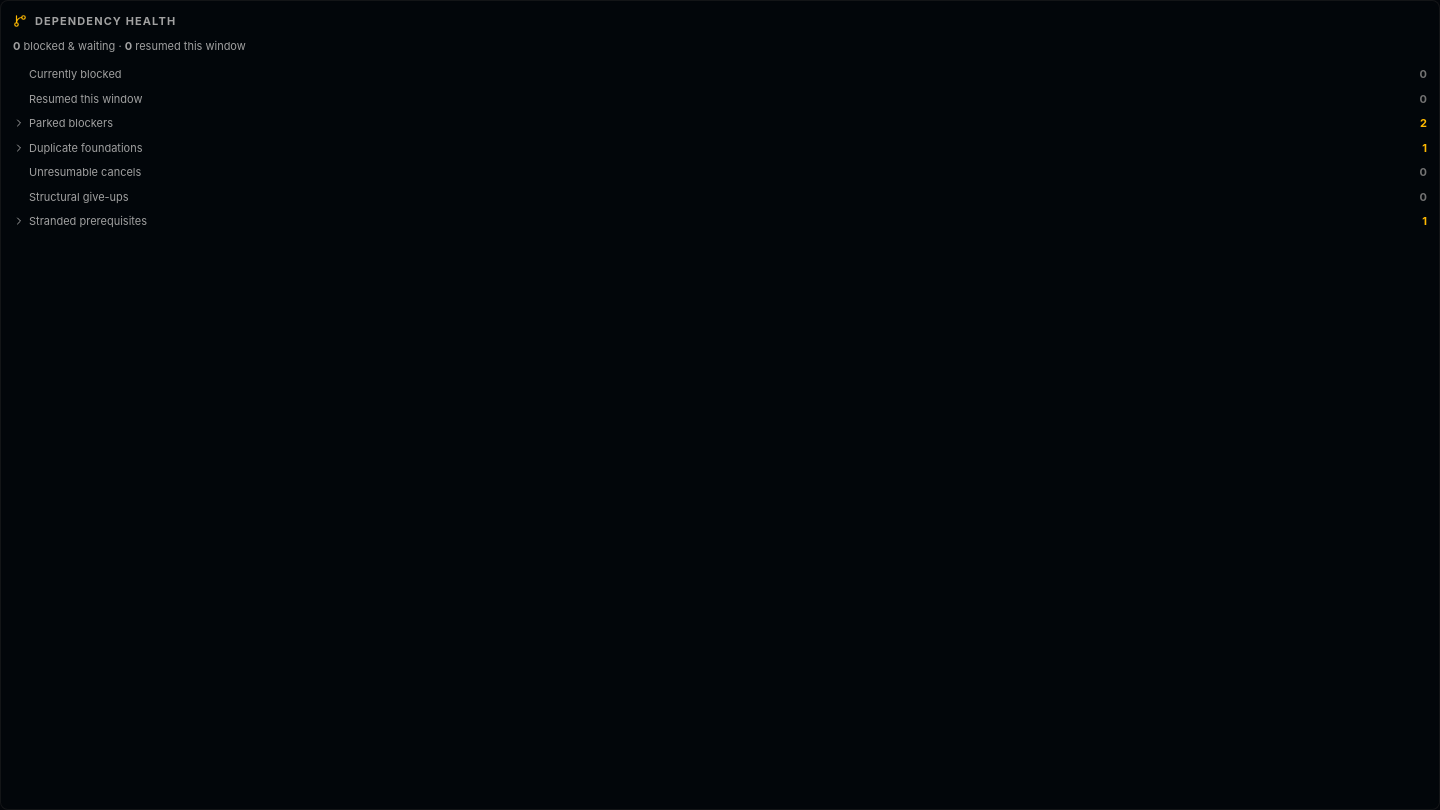
Test: DependencyHealthCard › demands fall back to ref then kind when label is absent
Click the text "Stranded prerequisites": (80, 221) [13,213,147,230]
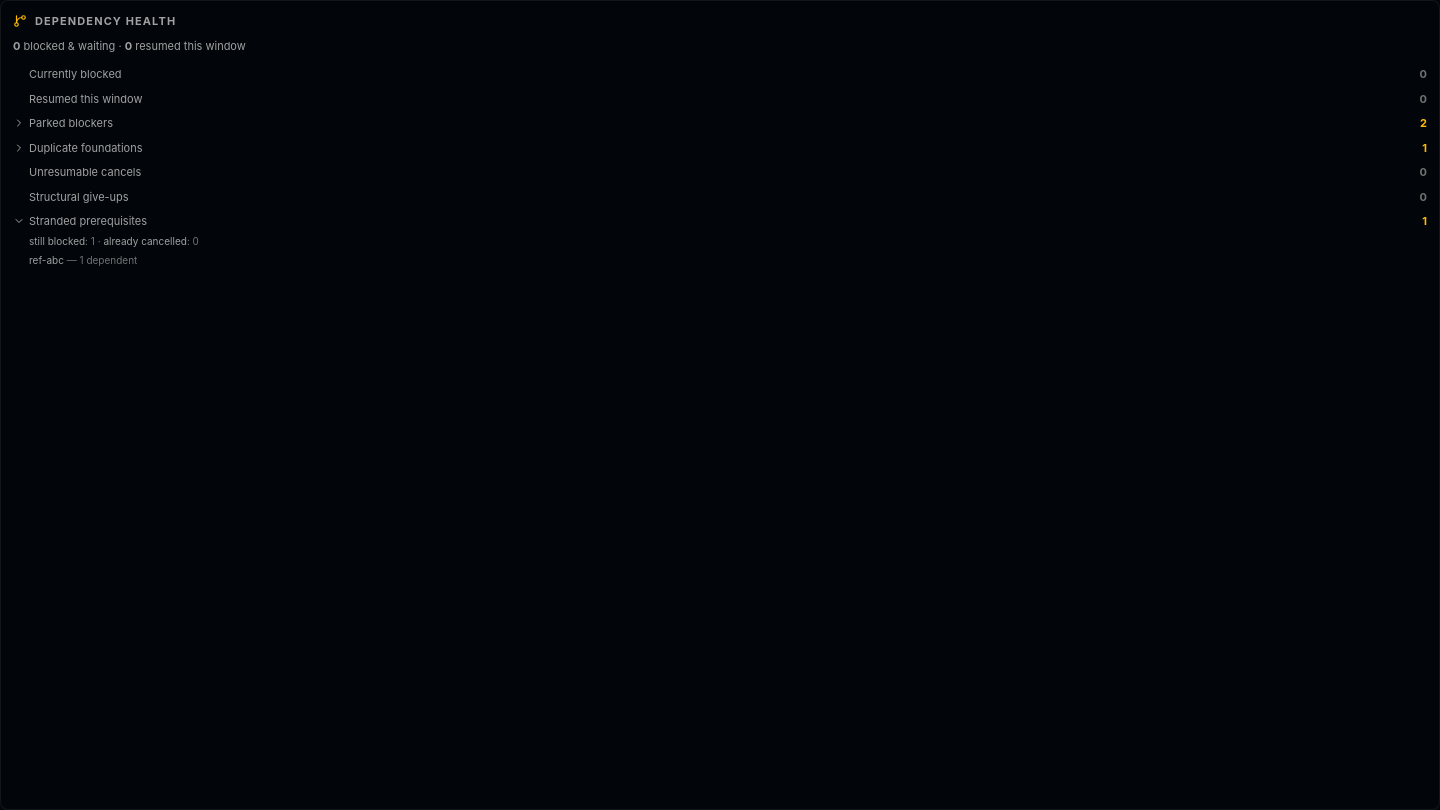
Check: the text "ref-abc" is shown, box [29,254,64,266]
